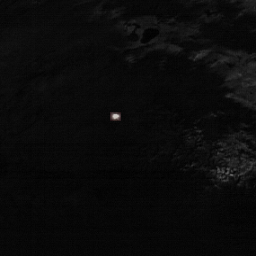Target: (110, 112, 120, 120)
